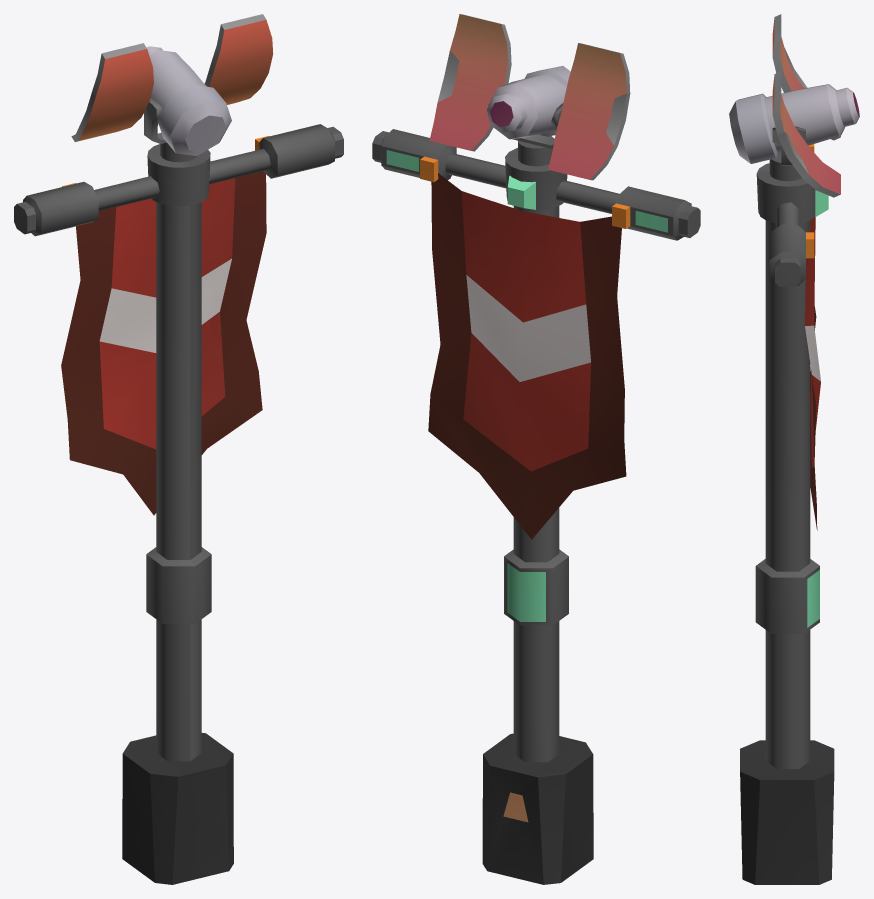
The model's file is plusgate_t1_a4.fbx.
3 renders of one model, left to right at view 1: azimuth 30°, elevation 25°; view 2: azimuth 150°, elevation 25°; view 3: azimuth 270°, elevation 25°, orthographic.
Visible parts, largest first — view 1: plusgate_t1_a4_m; view 2: plusgate_t1_a4_m; view 3: plusgate_t1_a4_m.
Boxes of the visible parts, <box> form: plusgate_t1_a4_m: <box>14,14,343,884</box>; plusgate_t1_a4_m: <box>372,14,700,884</box>; plusgate_t1_a4_m: <box>729,14,859,884</box>.
Bounding box in the file's own units: 3.44 × 8.6 × 1.25.
